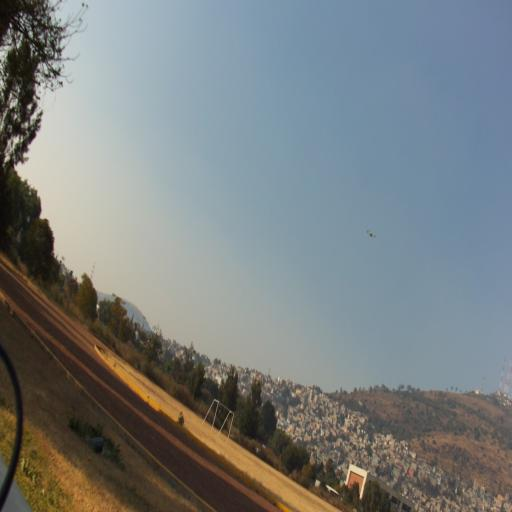drones: (366, 229, 377, 241)
